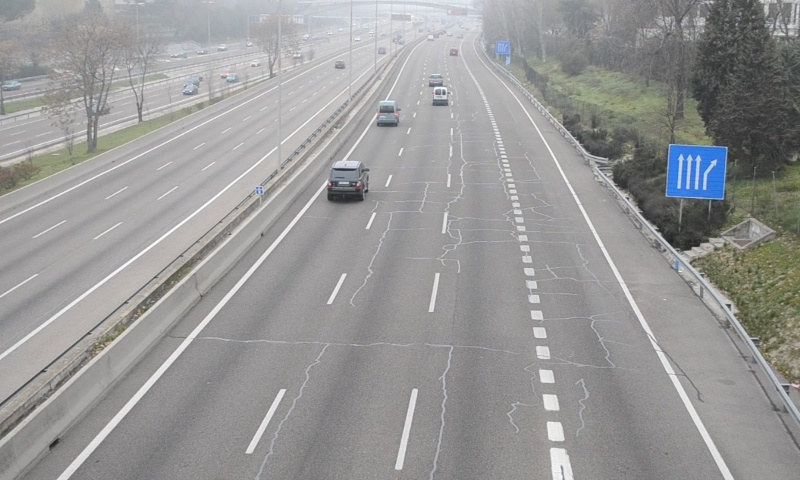car: (326, 160, 367, 199)
van: (376, 100, 400, 126), (432, 84, 449, 107)
